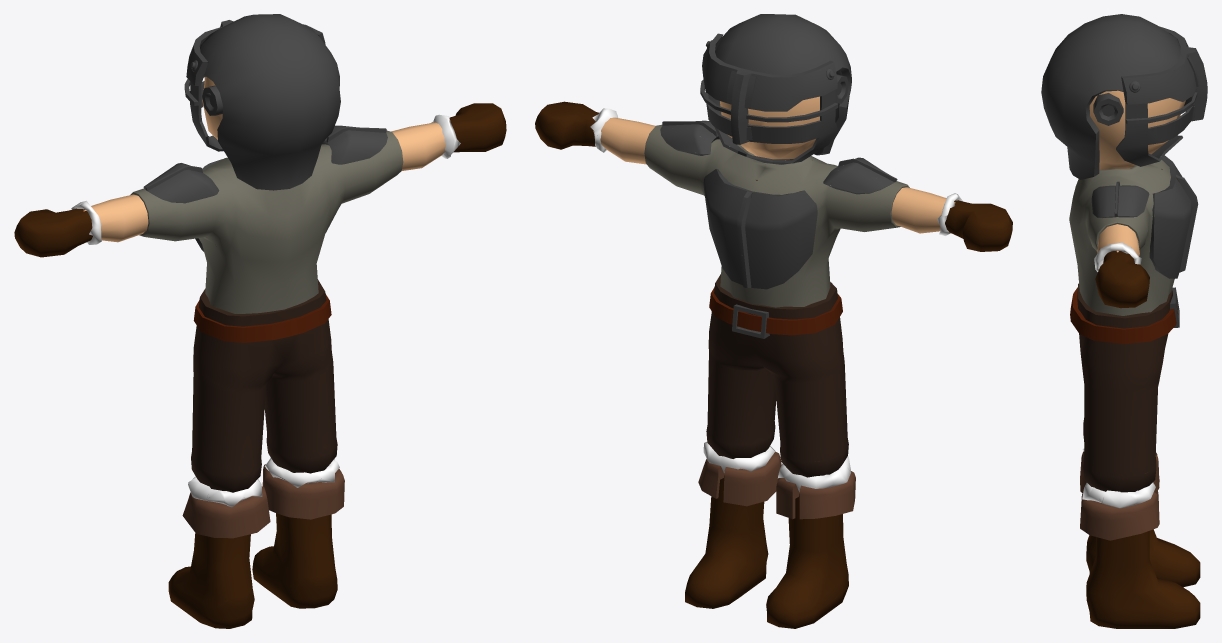
Rendered from Gudz.fbx.
3 views of the same model, side by side, from view 1: azimuth 30°, elevation 25°; view 2: azimuth 150°, elevation 25°; view 3: azimuth 270°, elevation 25° (orthographic). The views are drawn at different scales.
Parts seen in each view (by area): view 1: Cube.008, Cube.014, Cube, Cube.006, Cube.007, Cube.004, Cube.001, Cube.011, Cube.009, Torus.002, Cube.002, Torus.003; view 2: Cube.008, Cube.006, Cube.014, Cube.002, Cube.010, Cube, Cube.001, Cube.007, Cube.004, Cube.011, Cube.009, Torus.002 (+1 smaller); view 3: Cube.008, Cube, Cube.006, Cube.014, Cube.002, Cube.010, Cube.001, Cube.007, Cube.004, Cube.009, Cube.011, Torus.002 (+2 smaller).
Boxes of the visible parts, x1=… form: Cube.008: x1=191, y1=279, x2=337, y2=492; Cube.014: x1=130, y1=130, x2=403, y2=313; Cube: x1=200, y1=14, x2=340, y2=190; Cube.006: x1=168, y1=513, x2=337, y2=628; Cube.007: x1=182, y1=464, x2=344, y2=538; Cube.004: x1=14, y1=103, x2=506, y2=257; Cube.001: x1=83, y1=77, x2=445, y2=242; Cube.011: x1=143, y1=125, x2=387, y2=203; Cube.009: x1=193, y1=294, x2=331, y2=342; Torus.002: x1=188, y1=458, x2=339, y2=507; Cube.002: x1=184, y1=20, x2=325, y2=151; Torus.003: x1=71, y1=114, x2=460, y2=244; Cube.008: x1=706, y1=274, x2=848, y2=477; Cube.006: x1=685, y1=475, x2=848, y2=628; Cube.014: x1=644, y1=124, x2=909, y2=307; Cube.002: x1=700, y1=33, x2=838, y2=164; Cube.010: x1=703, y1=169, x2=817, y2=289; Cube: x1=715, y1=14, x2=851, y2=155; Cube.001: x1=600, y1=96, x2=955, y2=233; Cube.007: x1=698, y1=451, x2=855, y2=519; Cube.004: x1=535, y1=101, x2=1012, y2=251; Cube.011: x1=660, y1=120, x2=897, y2=194; Cube.009: x1=709, y1=287, x2=842, y2=335; Torus.002: x1=703, y1=442, x2=851, y2=491; Cube.008: x1=1077, y1=283, x2=1172, y2=492; Cube: x1=1041, y1=14, x2=1180, y2=179; Cube.006: x1=1086, y1=529, x2=1200, y2=628; Cube.014: x1=1069, y1=160, x2=1174, y2=315; Cube.002: x1=1116, y1=26, x2=1207, y2=166; Cube.010: x1=1149, y1=155, x2=1198, y2=278; Cube.001: x1=1089, y1=90, x2=1185, y2=256; Cube.007: x1=1080, y1=451, x2=1159, y2=540; Cube.004: x1=1095, y1=251, x2=1149, y2=308; Cube.009: x1=1070, y1=287, x2=1178, y2=344; Cube.011: x1=1091, y1=181, x2=1149, y2=218; Torus.002: x1=1082, y1=448, x2=1155, y2=508.
Bounding box in the file's own units: 151 × 175 × 45.72.
Materials: 1 (1 with a texture image).
